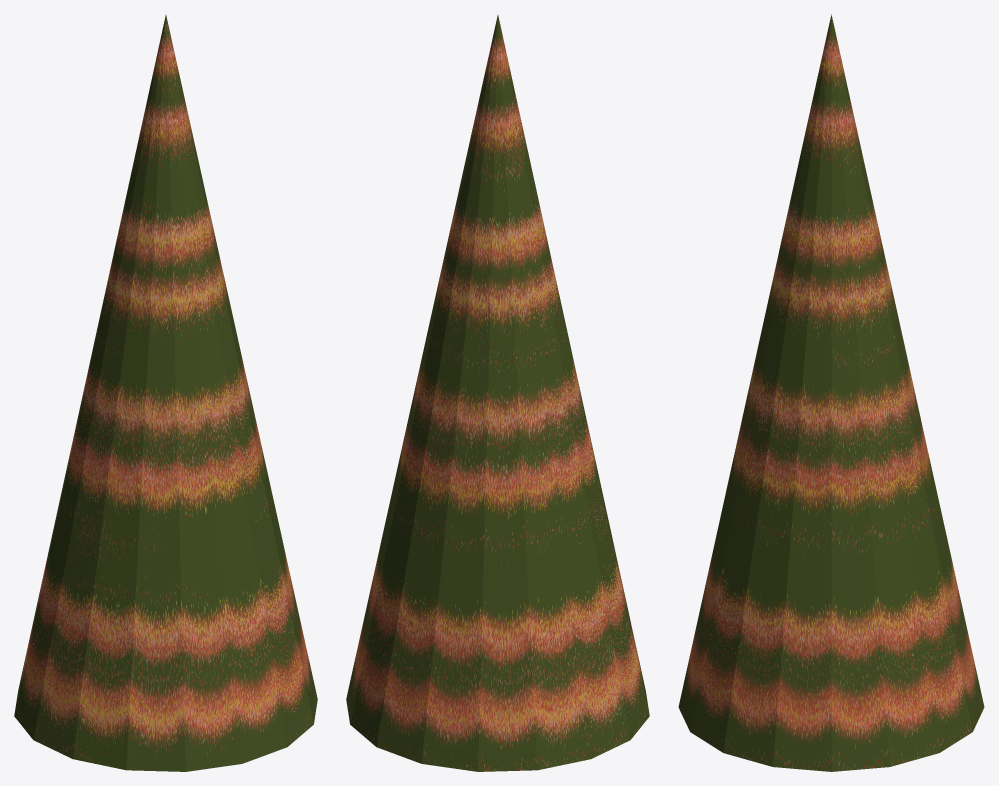
The model's file is coneTree.fbx.
The picture shows the model from 3 angles, left to right: view 1: azimuth 30°, elevation 25°; view 2: azimuth 150°, elevation 25°; view 3: azimuth 270°, elevation 25°; orthographic projection.
Parts seen in each view (by area): view 1: Cone; view 2: Cone; view 3: Cone.
Boxes of the visible parts, x1,y1,x2,y2 form: Cone: (14,15,317,771); Cone: (346,15,649,771); Cone: (678,14,984,771).
Size of the model in its own units: 200 by 500 by 200.
